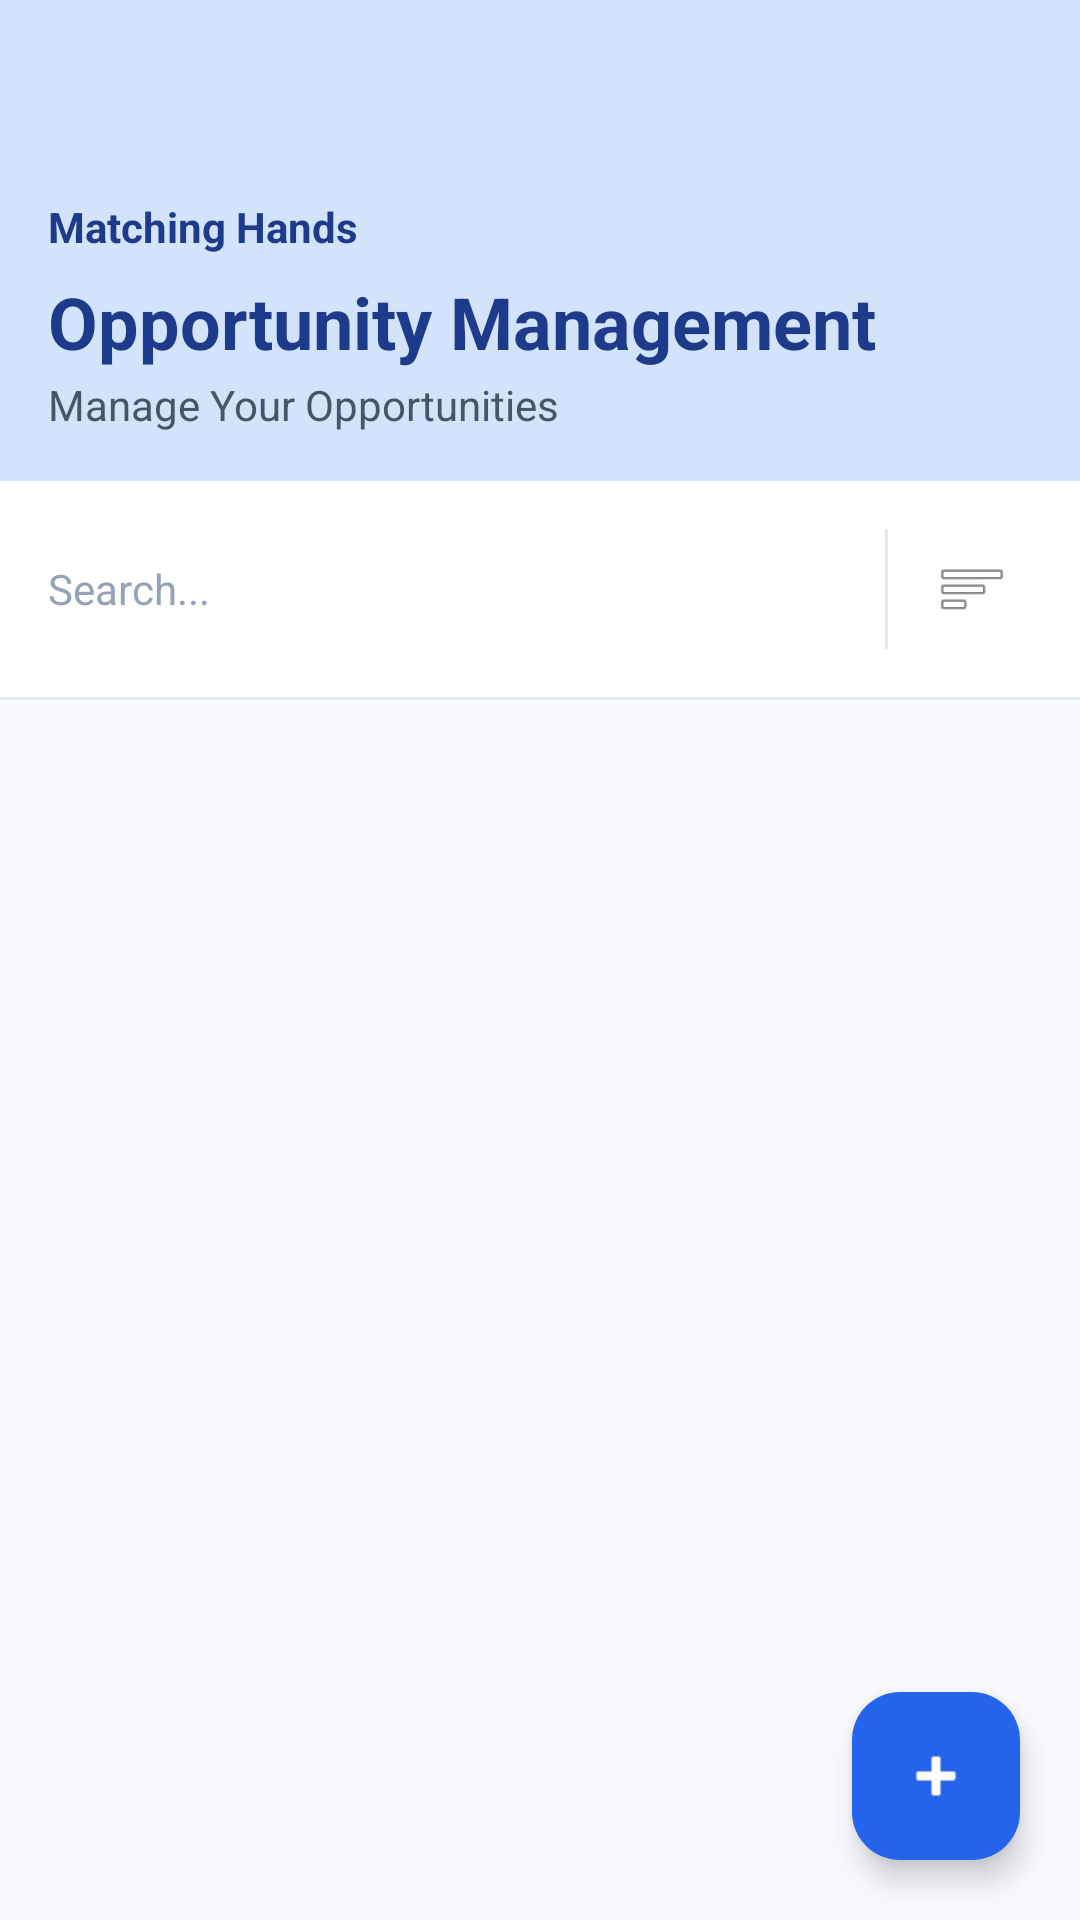

Icon click points for this 1080px x 1920px phone screenshot, format [x,y]:
Add Opportunity: [936,1776]
Sort: [972,589]
